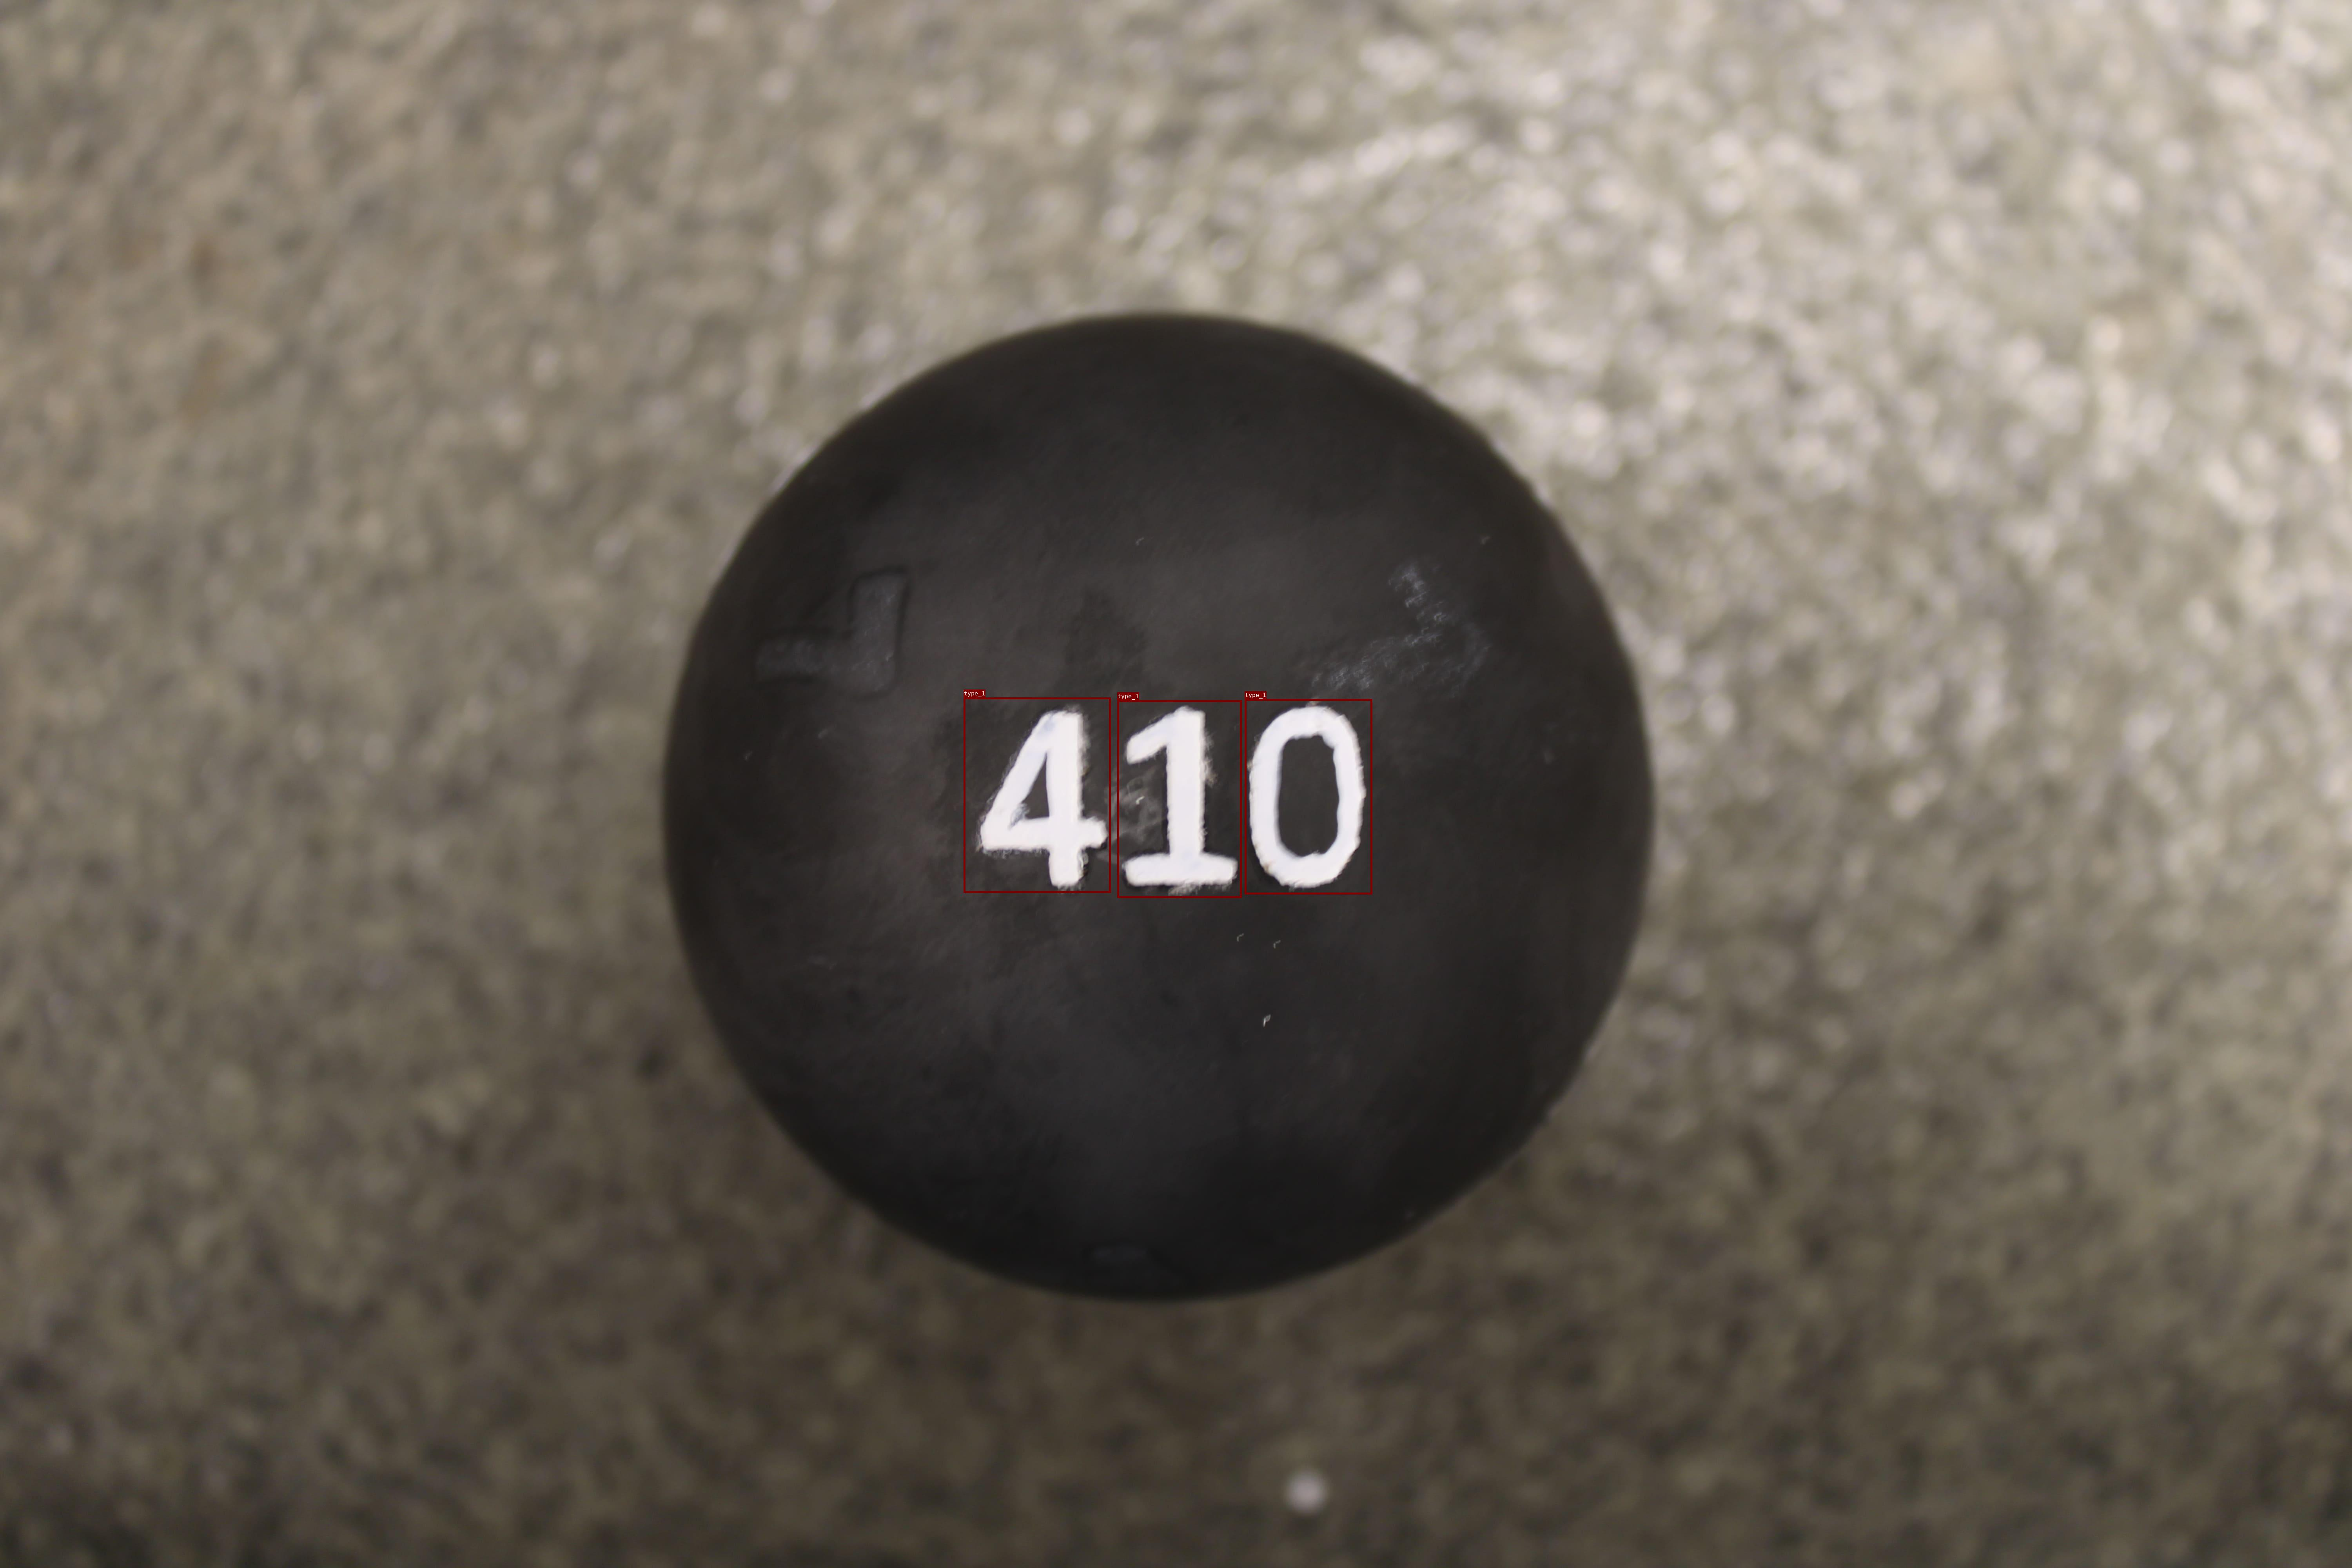type_1: (964, 697, 1111, 892), (1244, 698, 1372, 894), (1116, 700, 1241, 898)
